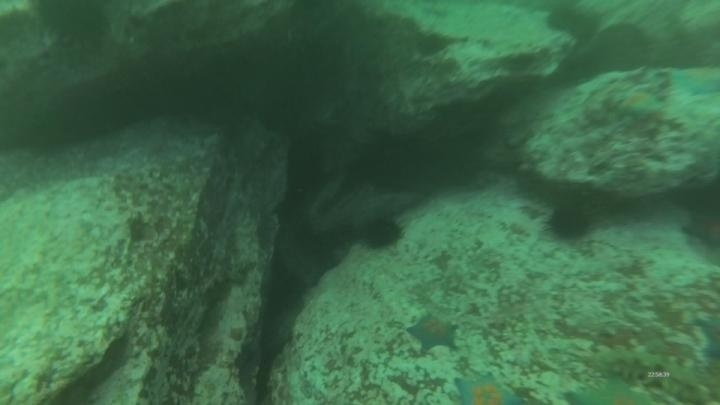echinus: (32, 1, 113, 52), (588, 22, 654, 78), (544, 201, 594, 243), (543, 4, 596, 42), (359, 213, 405, 252)
holothurian: (582, 344, 712, 403)
starfish: (564, 371, 653, 403), (452, 371, 527, 403), (405, 311, 460, 354), (680, 207, 720, 255), (669, 62, 720, 99), (613, 87, 664, 120), (691, 312, 720, 361)
